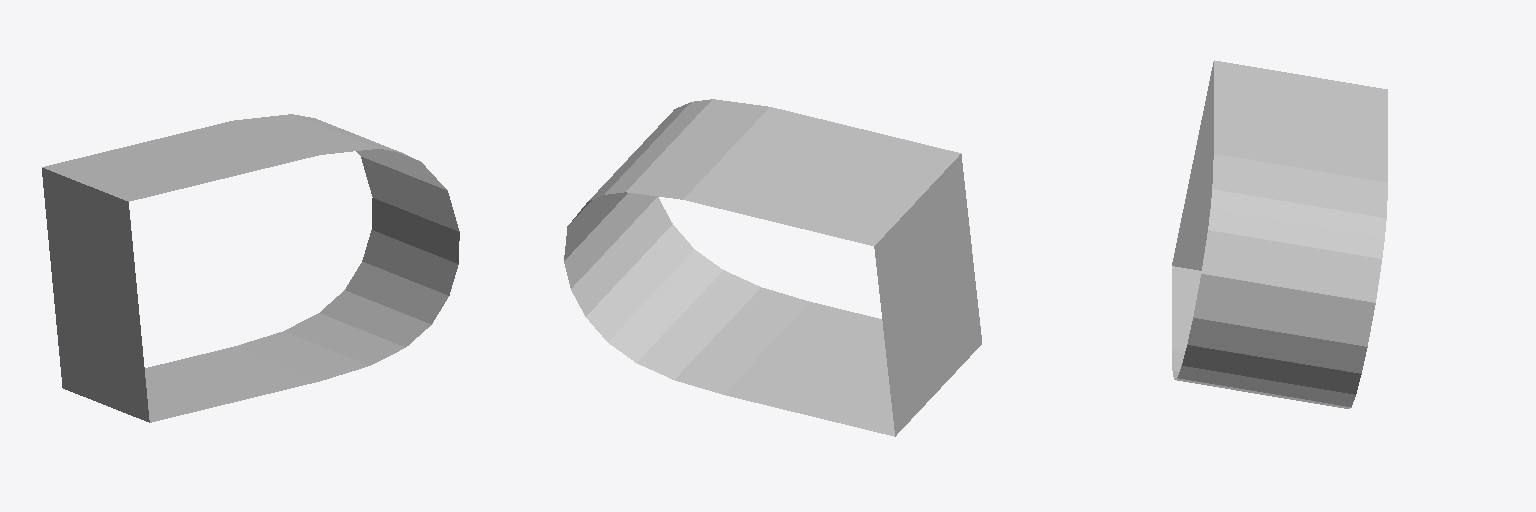
Rendered from original-58.obj.
3 renders of one model, left to right at view 1: azimuth 30°, elevation 25°; view 2: azimuth 150°, elevation 25°; view 3: azimuth 270°, elevation 25°, orthographic.
Parts seen in each view (by area): view 1: #ID274; view 2: #ID274; view 3: #ID274.
Boxes of the visible parts, box(x1,y1,x2,y2) form: #ID274: box(42, 114, 459, 422); #ID274: box(564, 99, 981, 436); #ID274: box(1172, 60, 1387, 408).
Bounding box in the file's own units: 0.0054 × 0.0038 × 0.0032.